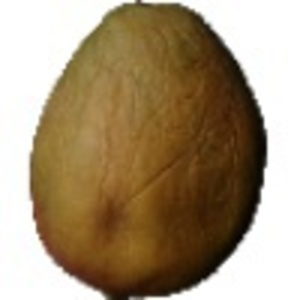mamão: (25, 1, 274, 292)
